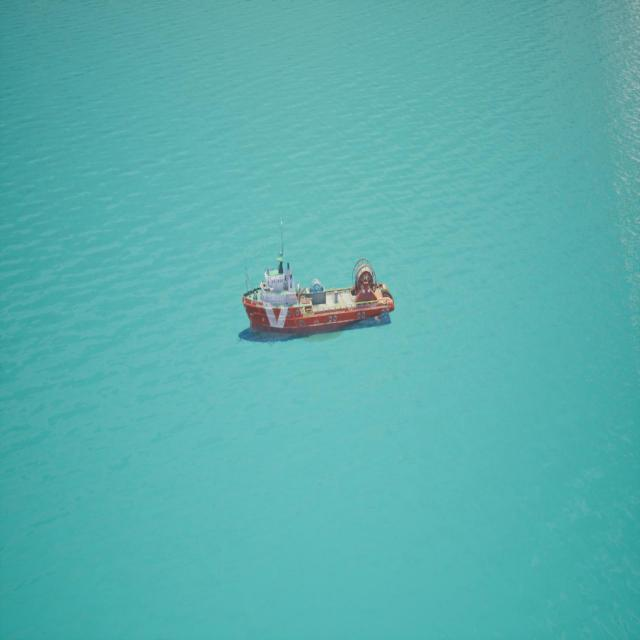tug boat: (239, 219, 397, 343)
